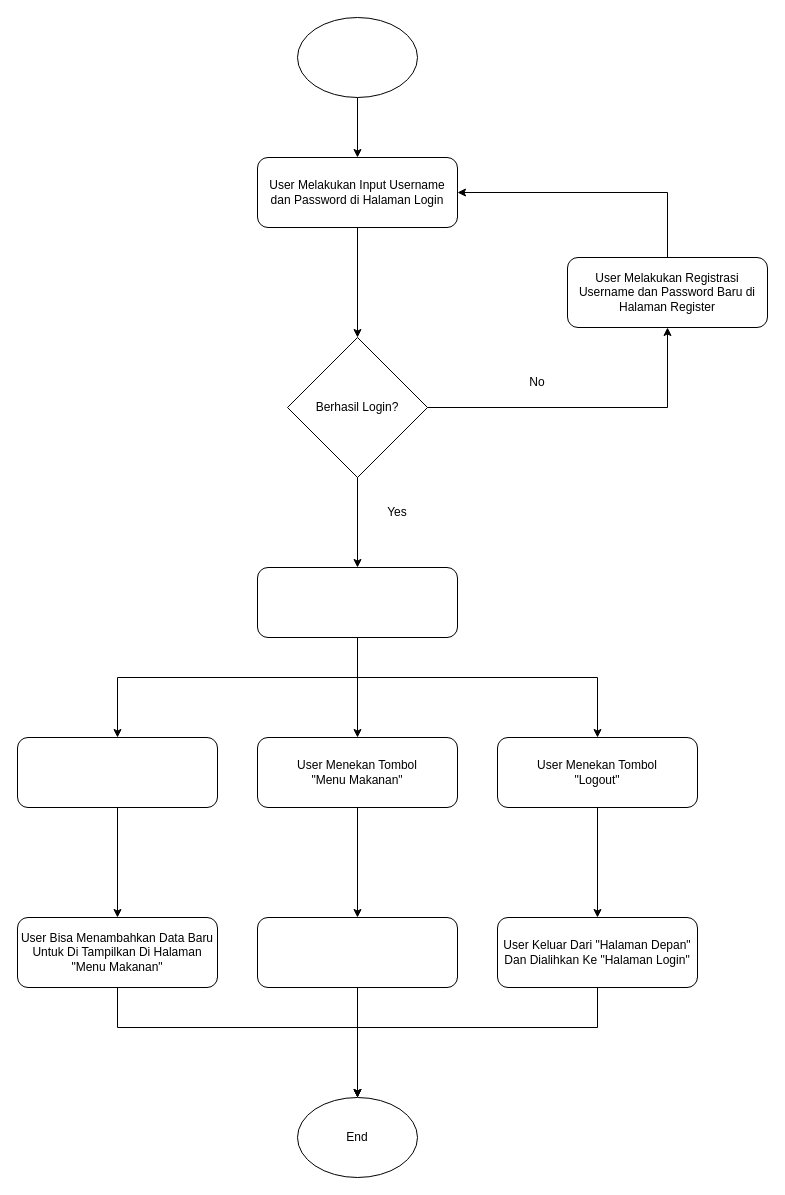
The diagram is 785 pixels wide and 1195 high, and some of its shapes have lost their labels. The centre of each missing label's shape, as x and y in pixels:
Start: pixel 357 57
User Bisa Melihat Seluruh Data Di Halaman "Menu Makanan": pixel 357 952
User Masuk Ke Halaman Depan: pixel 357 602
User Menekan Tombol "Daftar Menu Makanan Baru": pixel 117 772
